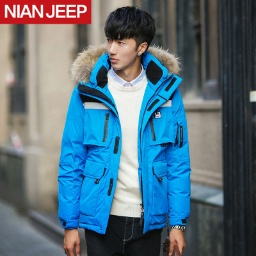face: (103, 5, 157, 74)
